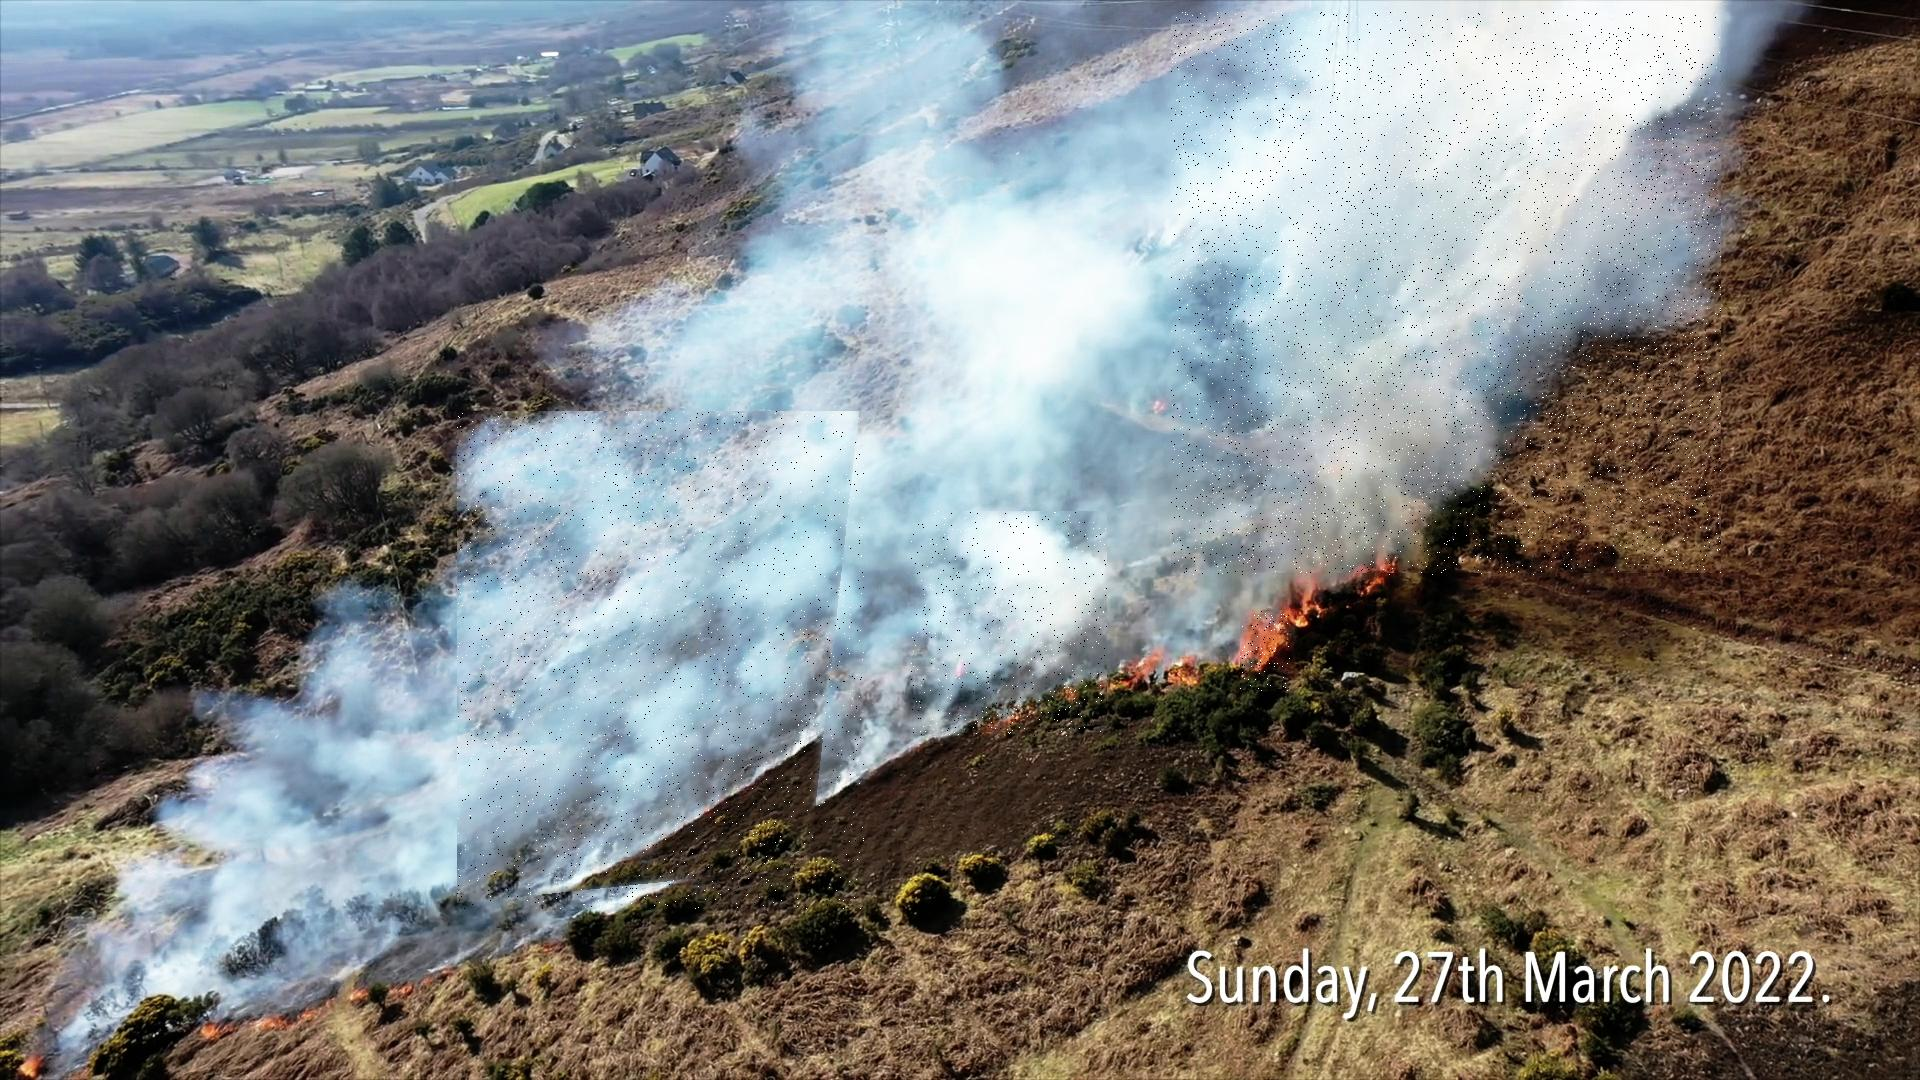fire: (1240, 611, 1290, 691)
smoke: (1171, 13, 1721, 576), (458, 411, 864, 909), (911, 512, 1108, 736)
